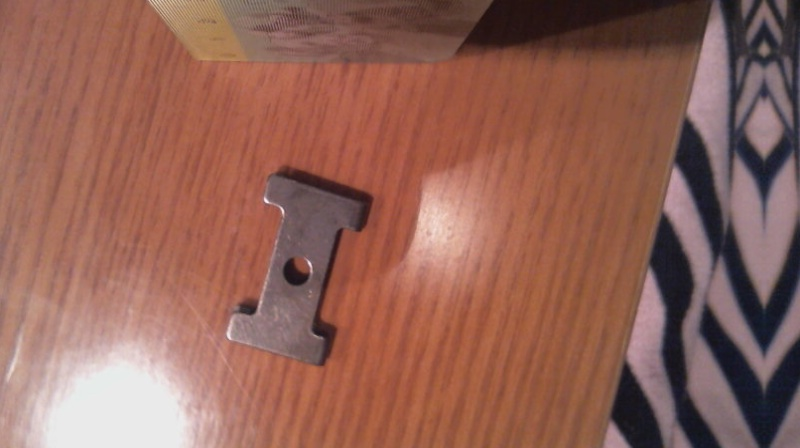O002: (224, 170, 372, 368)
